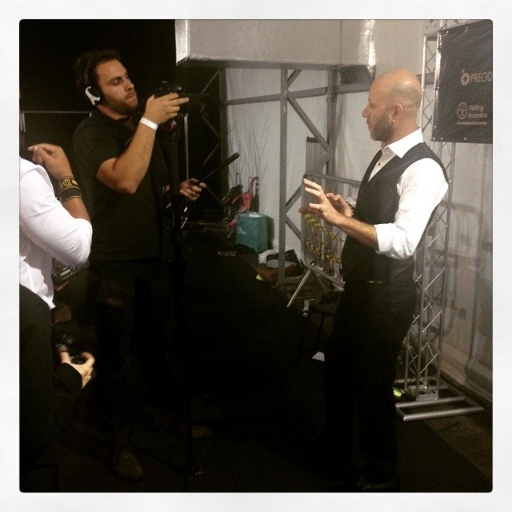hand: (297, 176, 342, 228), (25, 142, 75, 182), (60, 344, 96, 391), (142, 92, 190, 126), (176, 176, 208, 204), (324, 190, 352, 216)
